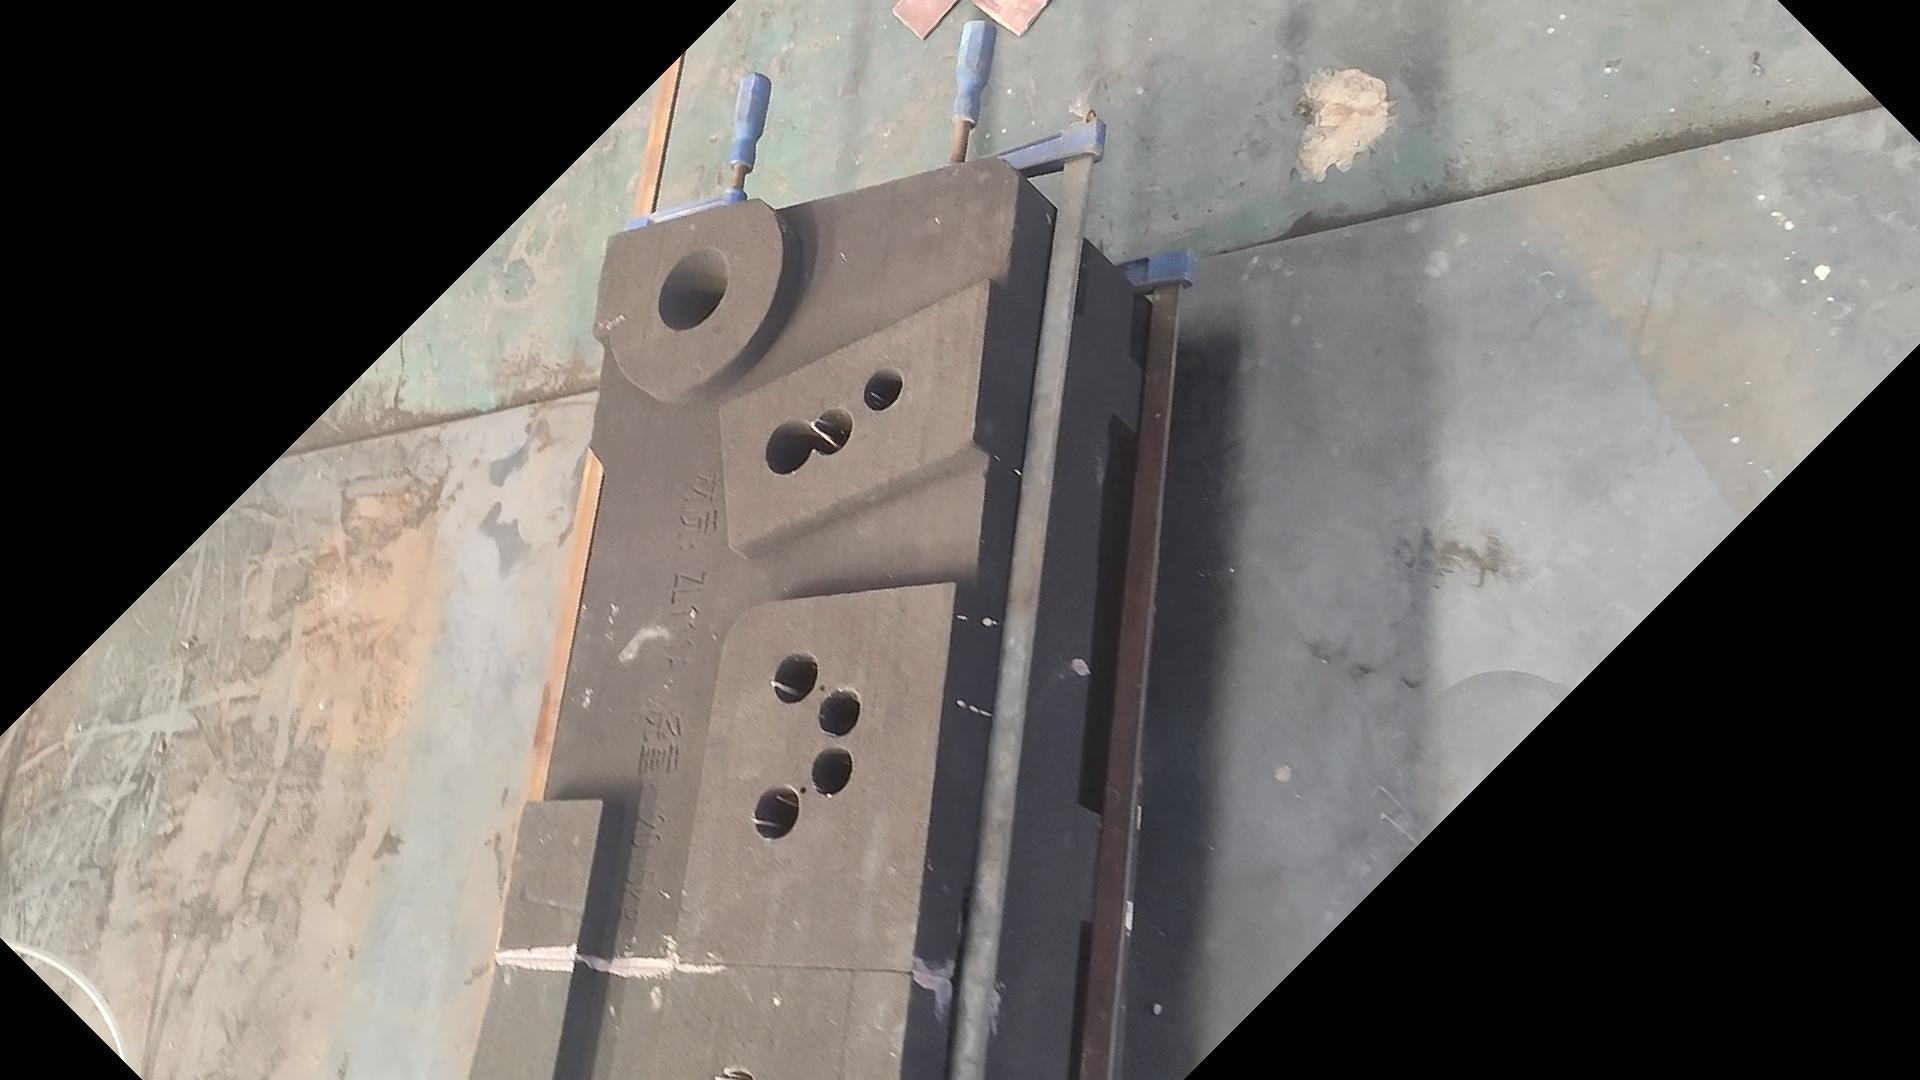pouring hole: (658, 247, 729, 332)
